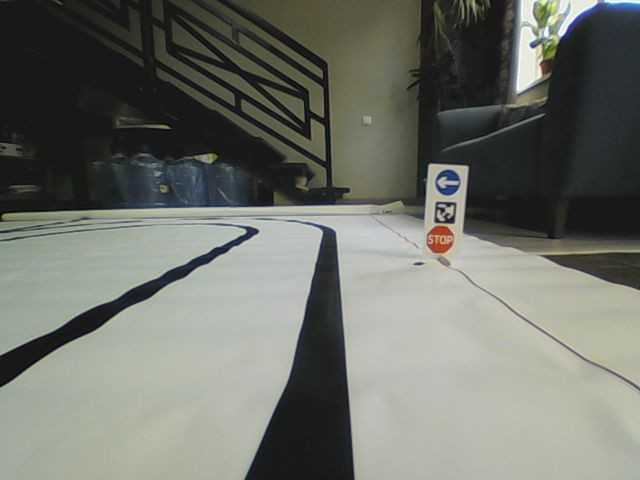Stop: (425, 224, 454, 255)
